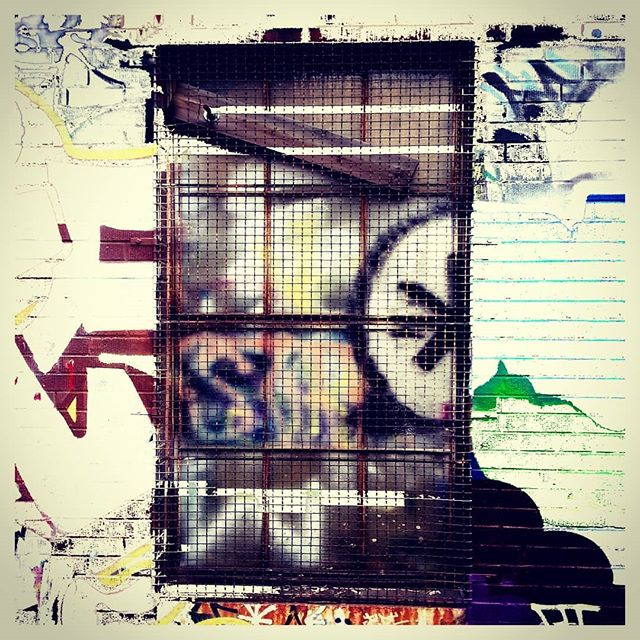wall: (7, 7, 620, 624)
window: (160, 43, 479, 607)
